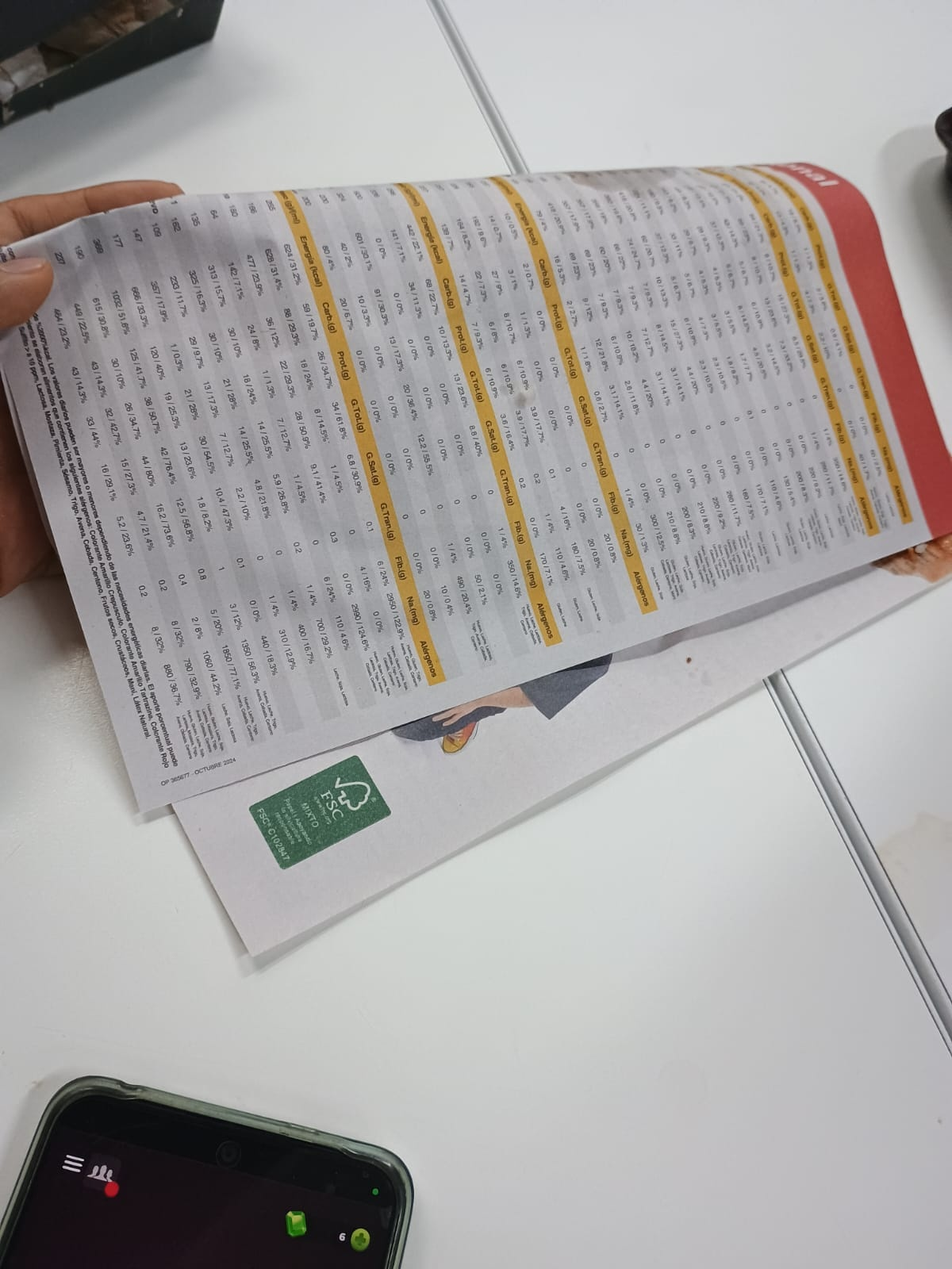Papel: (0, 159, 952, 961)
